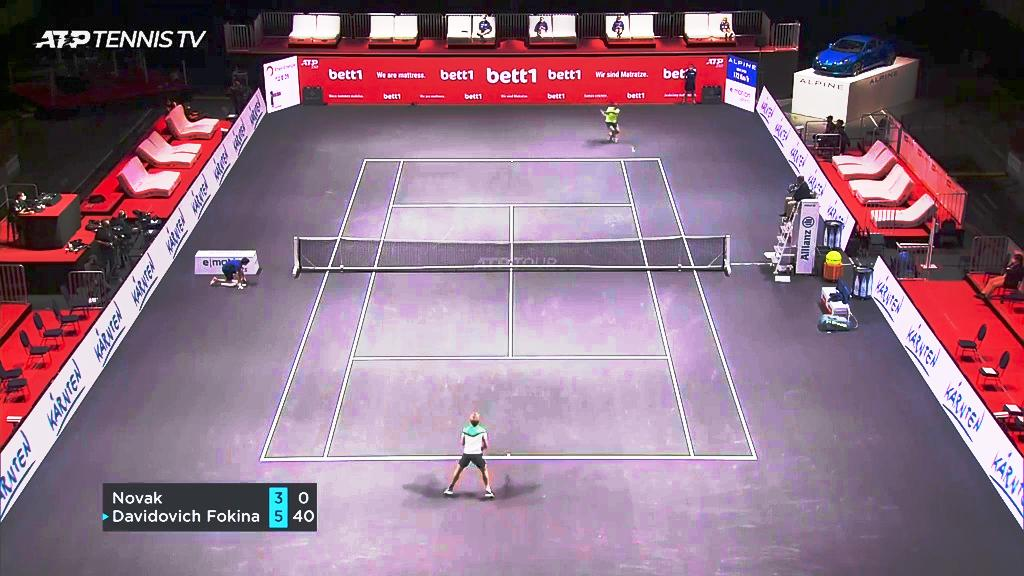tennis-court: (259, 159, 758, 461)
